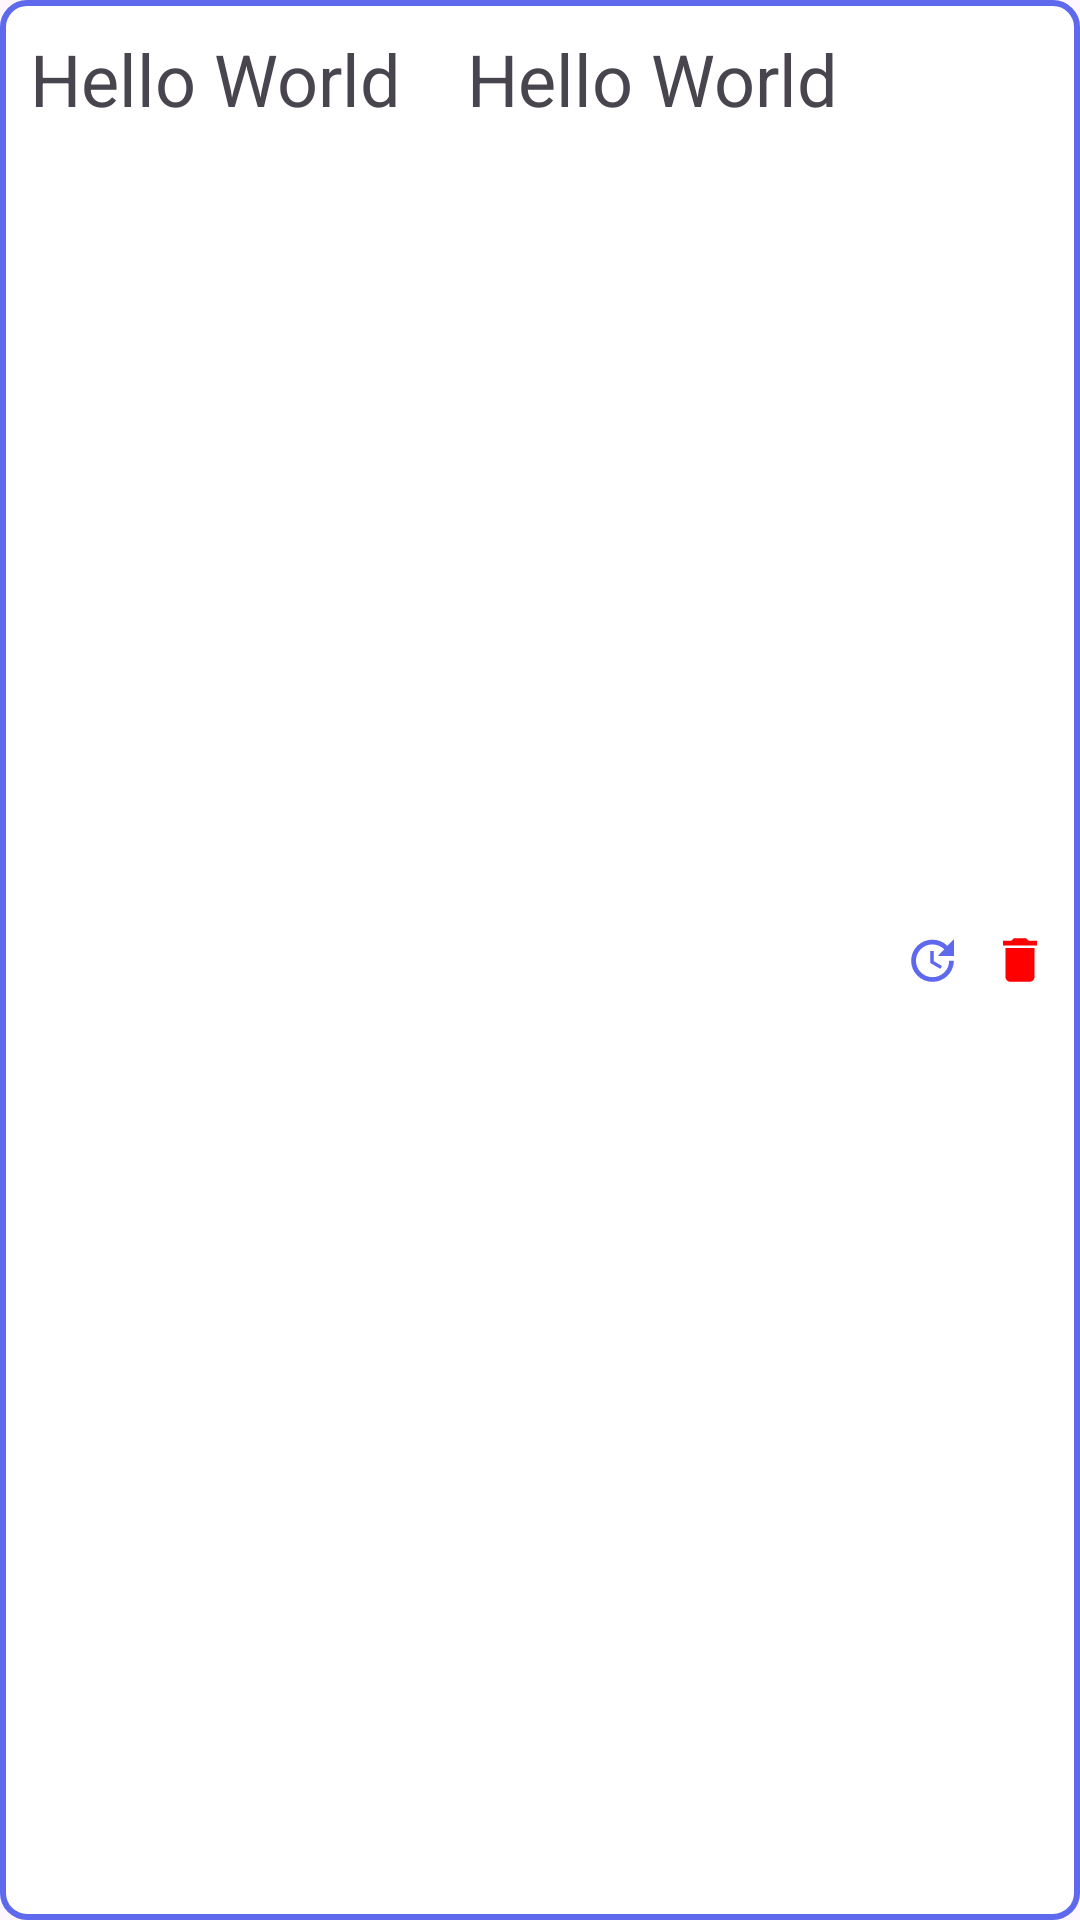

Icons on this 1080×1920 Android screen, each with the point to tap as (x,y):
delete: (1020,960)
update: (932,960)
